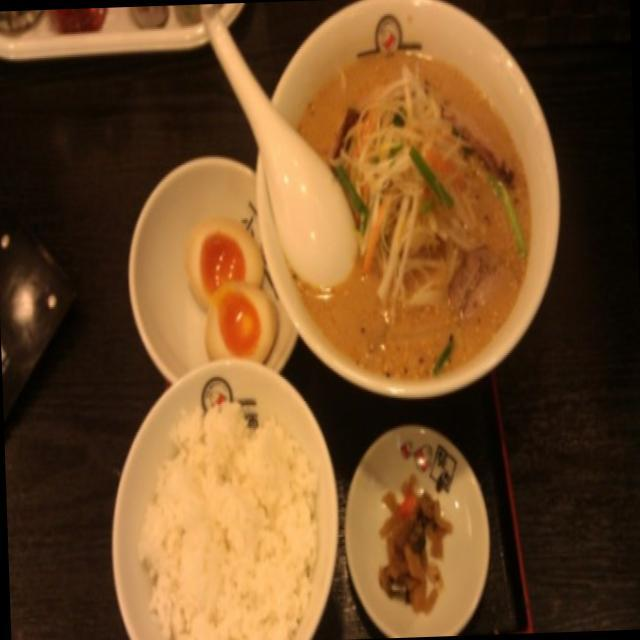Rice: (136, 389, 326, 640)
